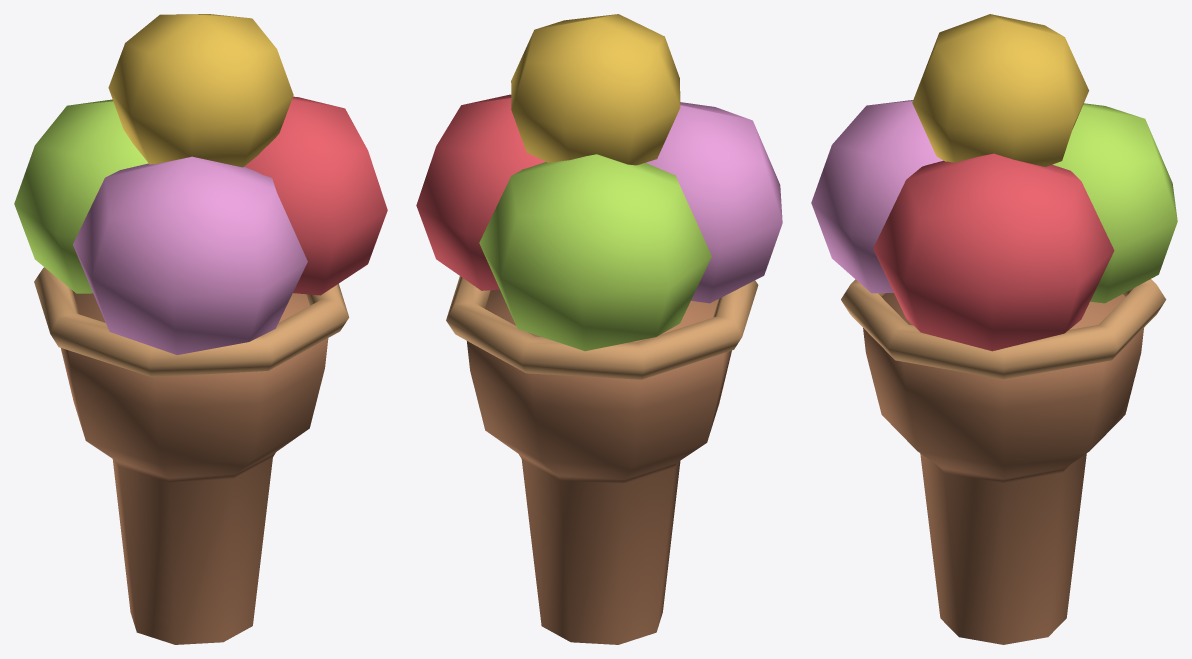
File: Dondurma.fbx
The picture shows the model from 3 angles, left to right: view 1: azimuth 30°, elevation 25°; view 2: azimuth 150°, elevation 25°; view 3: azimuth 270°, elevation 25°; orthographic projection.
Parts seen in each view (by area): view 1: Dondurma; view 2: Dondurma; view 3: Dondurma.
Boxes of the visible parts, bbox=[...] form: Dondurma: bbox=[14, 14, 387, 644]; Dondurma: bbox=[416, 14, 782, 644]; Dondurma: bbox=[811, 14, 1177, 644].
Bounding box in the file's own units: 44.93 × 82.36 × 45.49.
